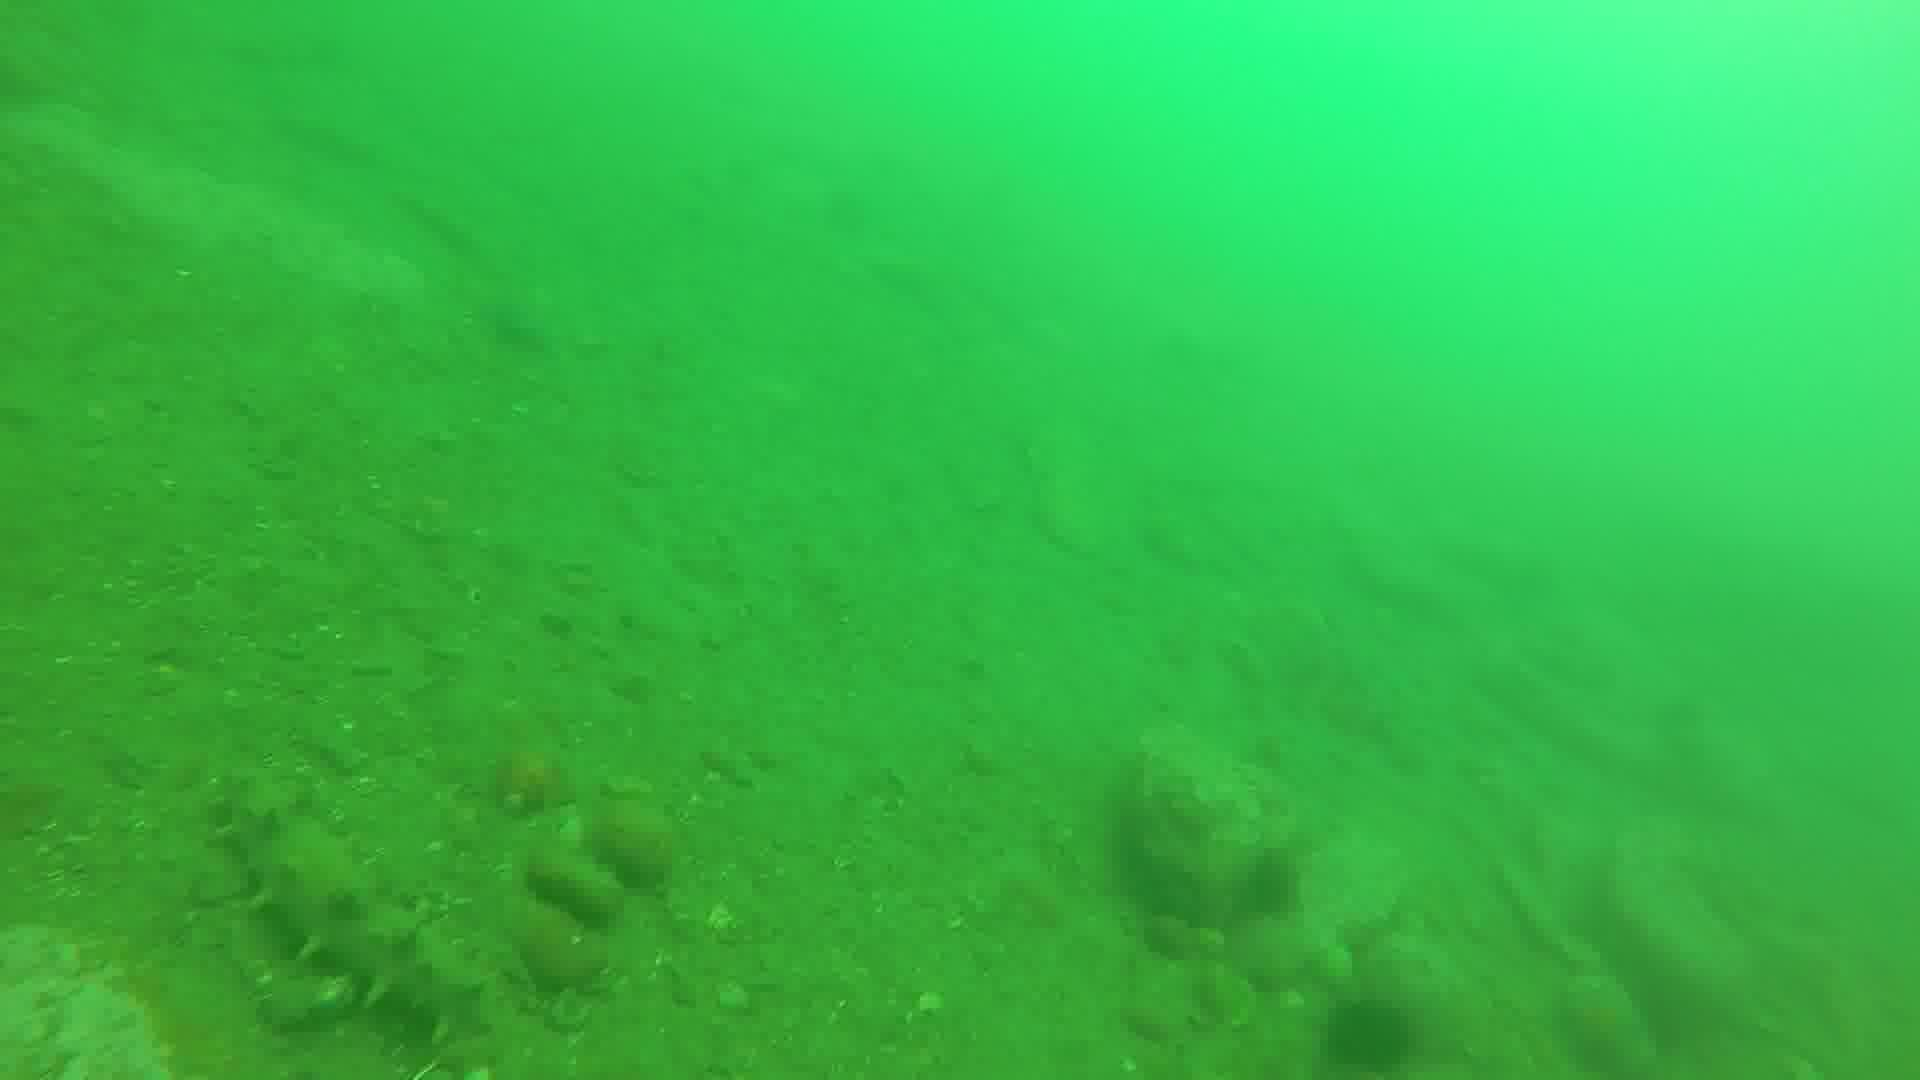echinus: (1320, 990, 1422, 1080)
holothurian: (222, 775, 495, 1044)
